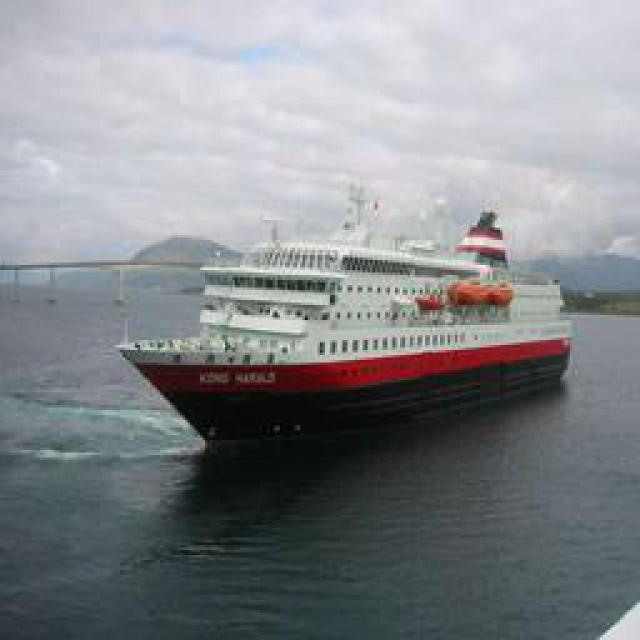Ship: (121, 205, 576, 453)
